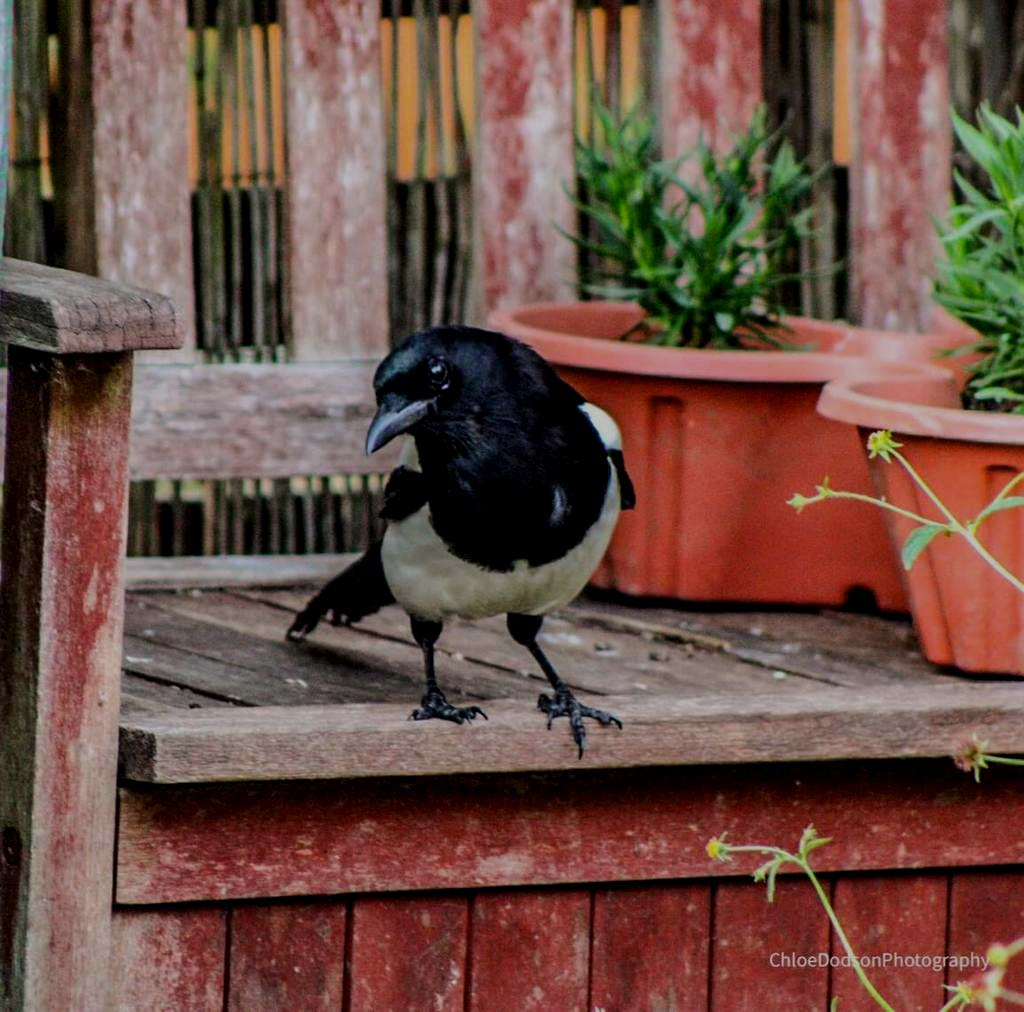PicaPica: (283, 323, 636, 761)
